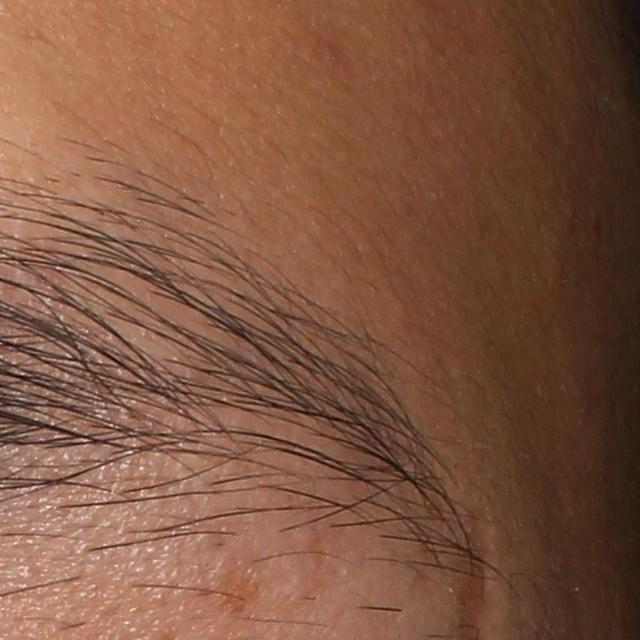melasma: (201, 561, 260, 622)
